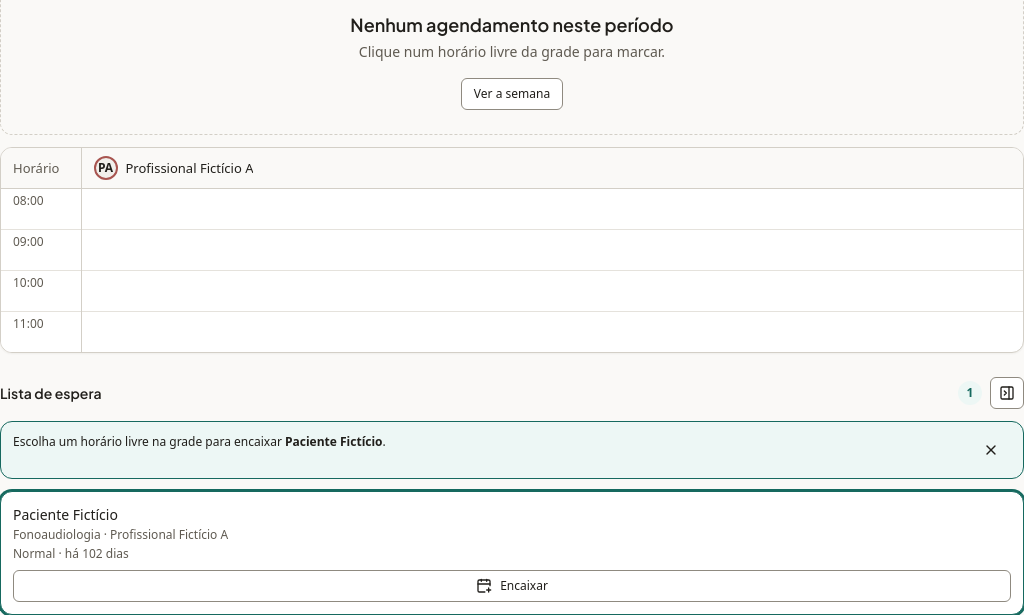
Test: Agenda — o painel da fila recolhe › deve manter o encaixe em andamento visível no trilho
This screenshot has width=1024, height=615.
(page scrolled)
Expected: the text "Escolha um horário livre" is shown, [13,433,282,450]
Click the button named "Recolher a lista de espera" at {"x": 1007, "y": 393}, box [990,377,1023,409]
(page scrolled)
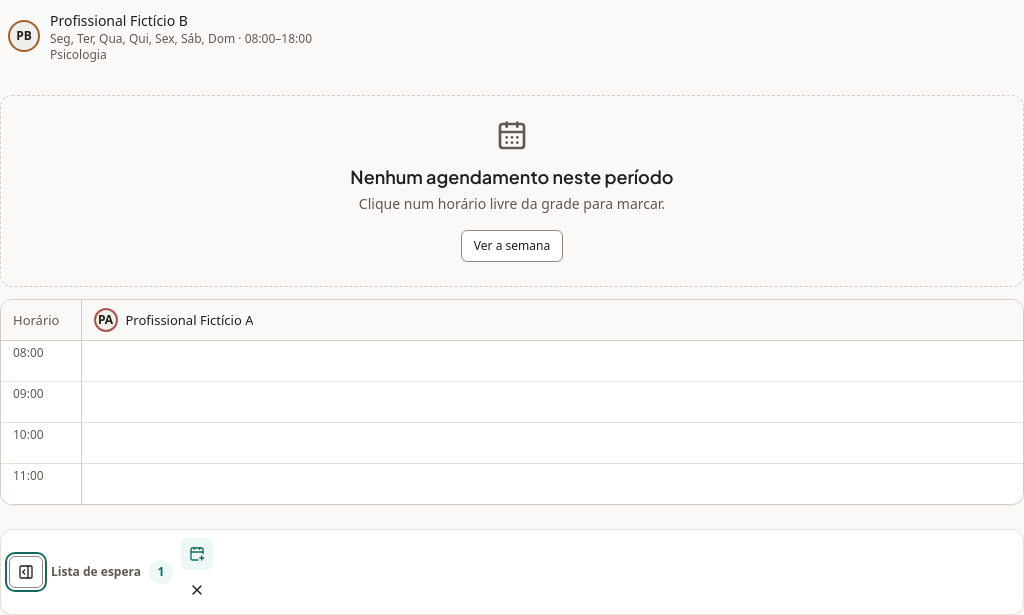
Expected: the button named "Cancelar encaixe" is shown, [181,574,213,606]
Result: the text "Paciente Fictício" is gone
